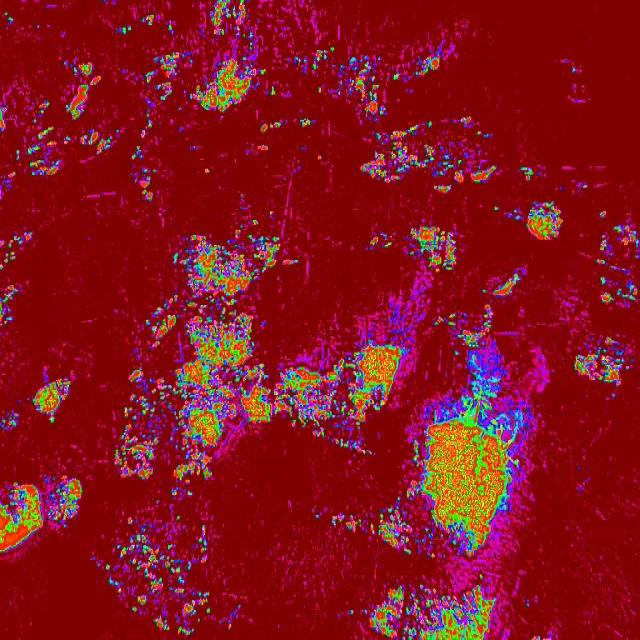fire: (110, 219, 282, 497), (422, 309, 530, 559), (89, 509, 211, 640), (280, 336, 412, 435), (358, 118, 504, 194), (361, 571, 498, 640), (0, 476, 81, 556), (190, 55, 266, 117), (594, 212, 640, 309), (338, 53, 388, 119), (573, 334, 634, 386), (368, 498, 418, 556), (31, 96, 62, 186), (145, 46, 188, 104), (66, 60, 105, 121), (503, 201, 562, 241), (409, 226, 458, 274), (30, 369, 72, 422), (62, 122, 122, 154), (128, 145, 158, 204), (0, 228, 38, 271), (558, 55, 591, 104), (208, 1, 248, 38), (312, 508, 366, 534), (293, 44, 336, 70), (482, 270, 520, 298), (413, 50, 446, 80), (332, 436, 373, 459), (0, 282, 19, 328), (138, 110, 158, 140), (0, 406, 21, 434), (366, 230, 394, 250), (224, 600, 242, 630), (0, 170, 16, 202), (520, 164, 541, 181), (258, 120, 282, 134), (402, 479, 420, 497), (410, 440, 420, 469), (282, 254, 301, 268), (140, 12, 156, 28), (0, 104, 8, 134), (236, 190, 247, 210), (119, 24, 134, 37), (530, 632, 554, 640), (4, 10, 15, 26), (165, 22, 176, 36), (13, 147, 24, 161), (248, 29, 254, 52), (392, 71, 401, 84), (579, 181, 590, 191), (299, 118, 310, 128), (268, 84, 276, 96), (316, 84, 325, 94), (201, 166, 210, 175), (492, 204, 500, 212), (316, 153, 324, 161), (267, 209, 276, 216), (348, 608, 354, 618), (62, 60, 66, 70)
